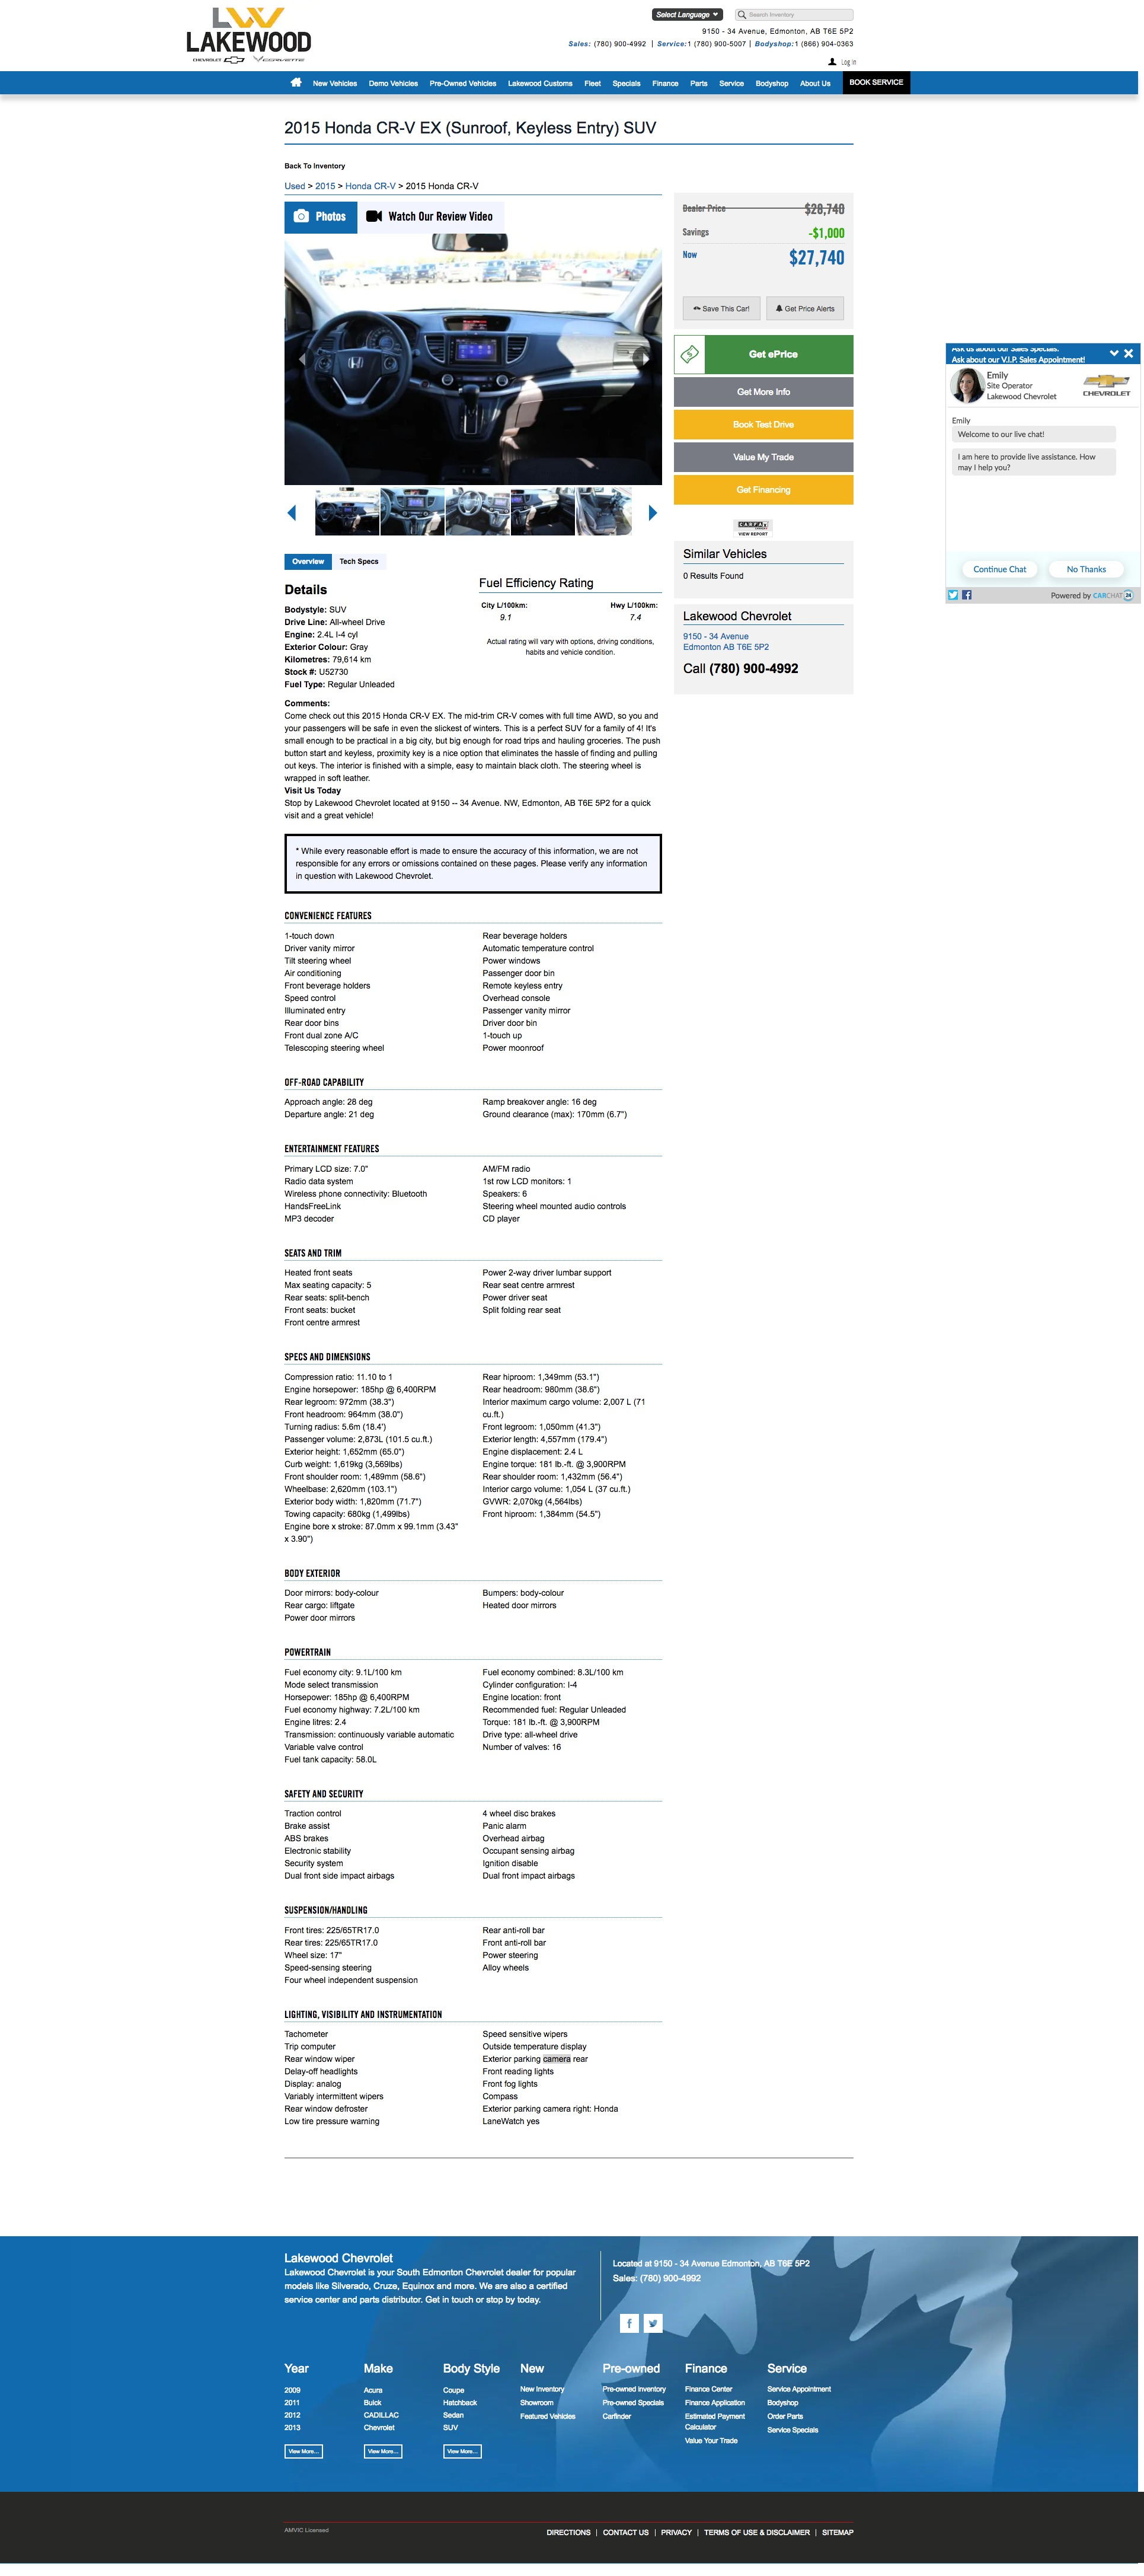car: (648, 503, 658, 522)
